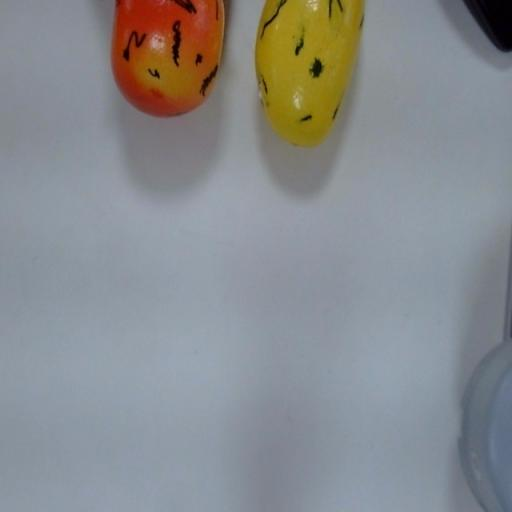Defective: (252, 2, 368, 152), (107, 1, 232, 122)
